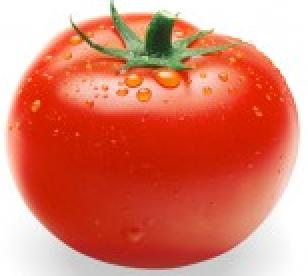tomato: (10, 15, 291, 267)
